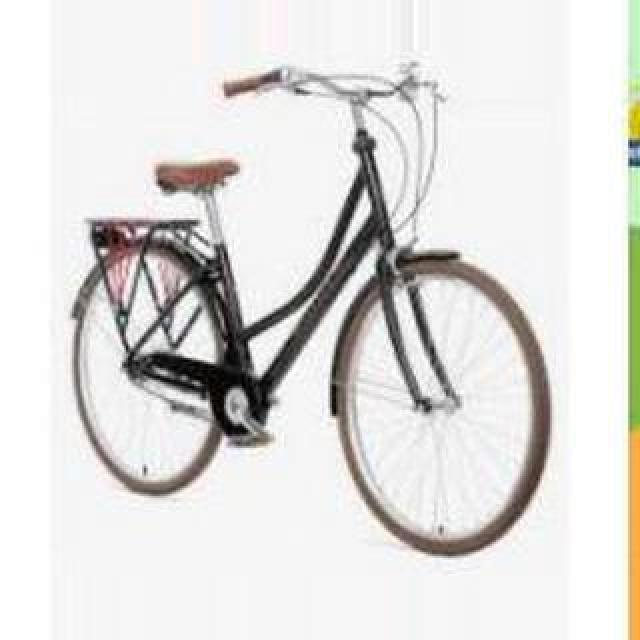Person: (69, 56, 553, 558)
